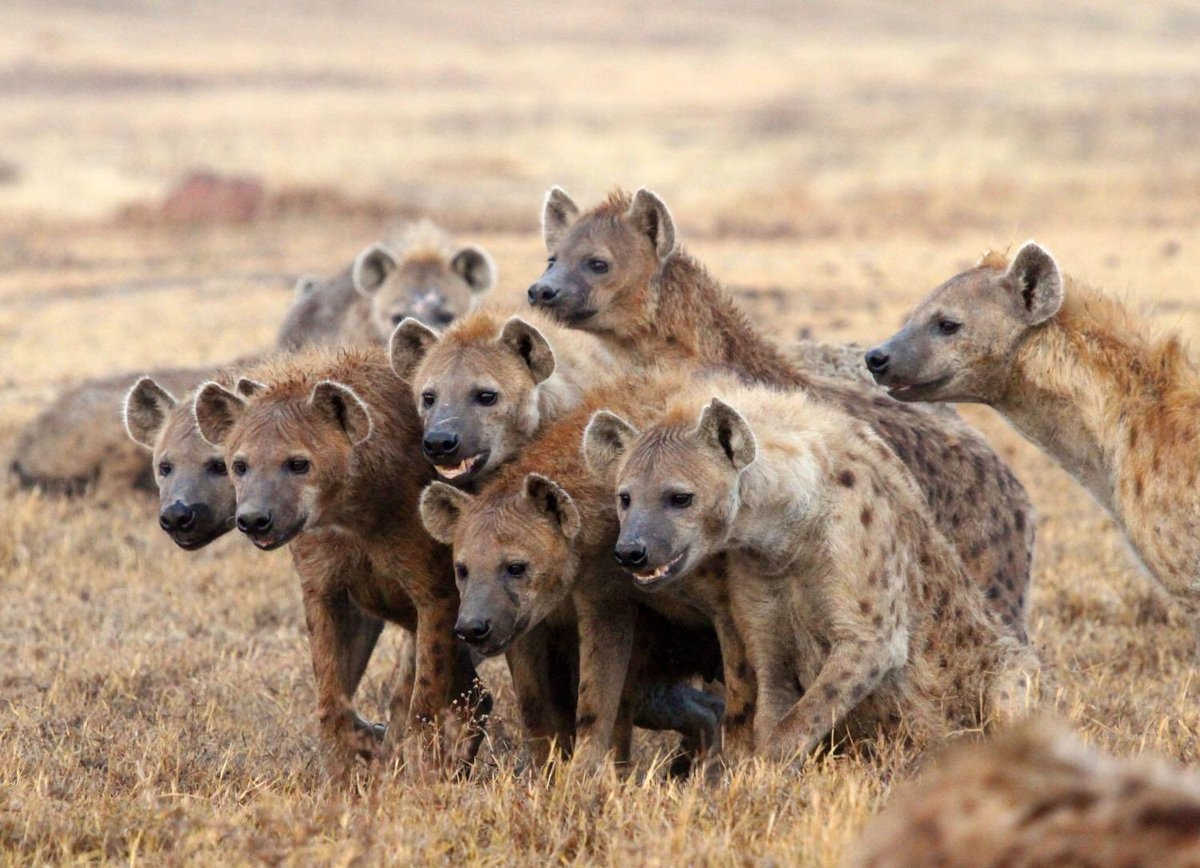hyna: (523, 176, 1042, 653), (411, 374, 883, 797), (580, 372, 1060, 787), (192, 336, 495, 790), (859, 232, 1200, 616), (382, 298, 623, 493), (115, 357, 241, 560)
